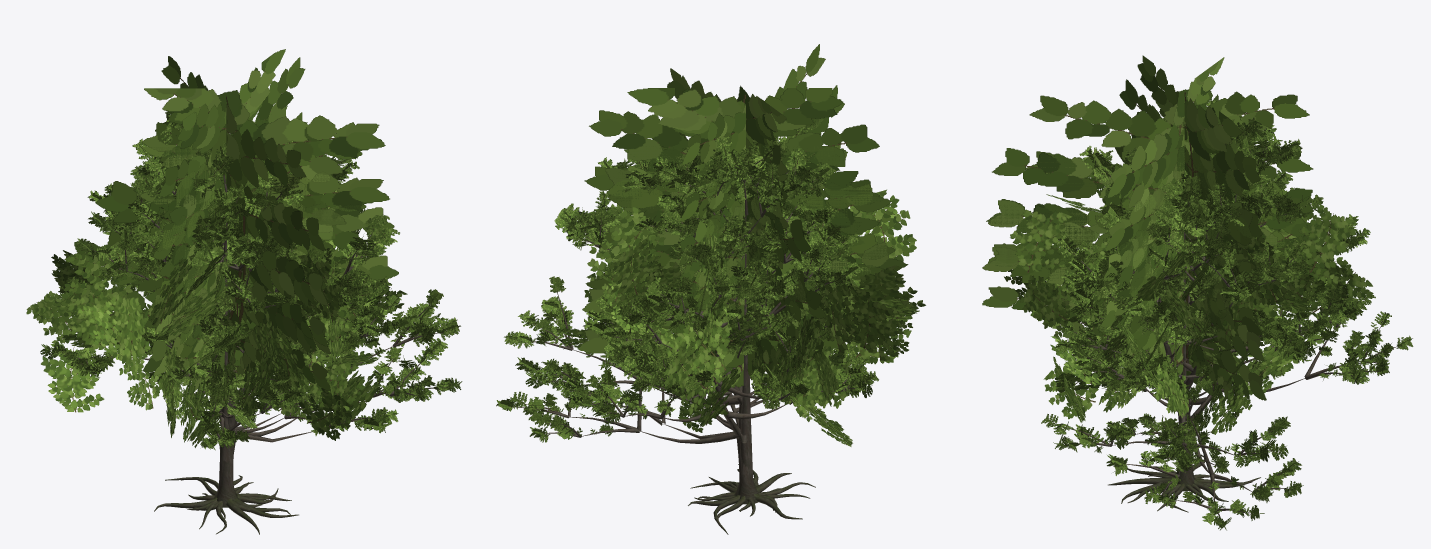
The model's file is tree-library-broadleaf.glb.
The picture shows the model from 3 angles, left to right: view 1: azimuth 30°, elevation 25°; view 2: azimuth 150°, elevation 25°; view 3: azimuth 270°, elevation 25°; orthographic projection. The views are drawn at different scales.
Parts seen in each view (by area): view 1: broadleaf_a_far, broadleaf_a_low, broadleaf_a_high, broadleaf_b_low, broadleaf_b_high, broadleaf_b_far, broadleaf_c_low, broadleaf_c_far, broadleaf_c_high; view 2: broadleaf_a_far, broadleaf_a_high, broadleaf_b_high, broadleaf_a_low, broadleaf_b_low, broadleaf_b_far, broadleaf_c_low, broadleaf_c_far, broadleaf_c_high; view 3: broadleaf_a_far, broadleaf_a_high, broadleaf_a_low, broadleaf_b_high, broadleaf_b_far, broadleaf_b_low, broadleaf_c_high, broadleaf_c_far, broadleaf_c_low.
Part boxes in pixels (left/top/right/bottom): broadleaf_a_far: left=64, top=49, right=394, bottom=489; broadleaf_a_low: left=26, top=122, right=399, bottom=507; broadleaf_a_high: left=75, top=111, right=462, bottom=534; broadleaf_b_low: left=41, top=220, right=407, bottom=489; broadleaf_b_high: left=40, top=179, right=426, bottom=534; broadleaf_b_far: left=60, top=106, right=398, bottom=490; broadleaf_c_low: left=126, top=304, right=349, bottom=447; broadleaf_c_far: left=144, top=219, right=311, bottom=396; broadleaf_c_high: left=199, top=268, right=355, bottom=529; broadleaf_a_far: left=582, top=44, right=908, bottom=487; broadleaf_a_high: left=504, top=136, right=876, bottom=534; broadleaf_b_high: left=496, top=181, right=878, bottom=516; broadleaf_a_low: left=587, top=125, right=916, bottom=497; broadleaf_b_low: left=556, top=205, right=925, bottom=501; broadleaf_b_far: left=577, top=118, right=912, bottom=487; broadleaf_c_low: left=637, top=261, right=848, bottom=462; broadleaf_c_far: left=652, top=216, right=846, bottom=387; broadleaf_c_high: left=633, top=280, right=810, bottom=511; broadleaf_a_far: left=988, top=55, right=1321, bottom=475; broadleaf_a_high: left=1041, top=118, right=1366, bottom=507; broadleaf_a_low: left=1004, top=98, right=1373, bottom=484; broadleaf_b_high: left=1054, top=164, right=1413, bottom=530; broadleaf_b_far: left=982, top=138, right=1327, bottom=477; broadleaf_b_low: left=1023, top=213, right=1353, bottom=503; broadleaf_c_high: left=1087, top=249, right=1284, bottom=512; broadleaf_c_far: left=1062, top=215, right=1262, bottom=401; broadleaf_c_low: left=1082, top=259, right=1264, bottom=446.
Bounding box in the file's own units: 20.58 × 20.37 × 19.93.
Materials: 2 (2 with a texture image).
